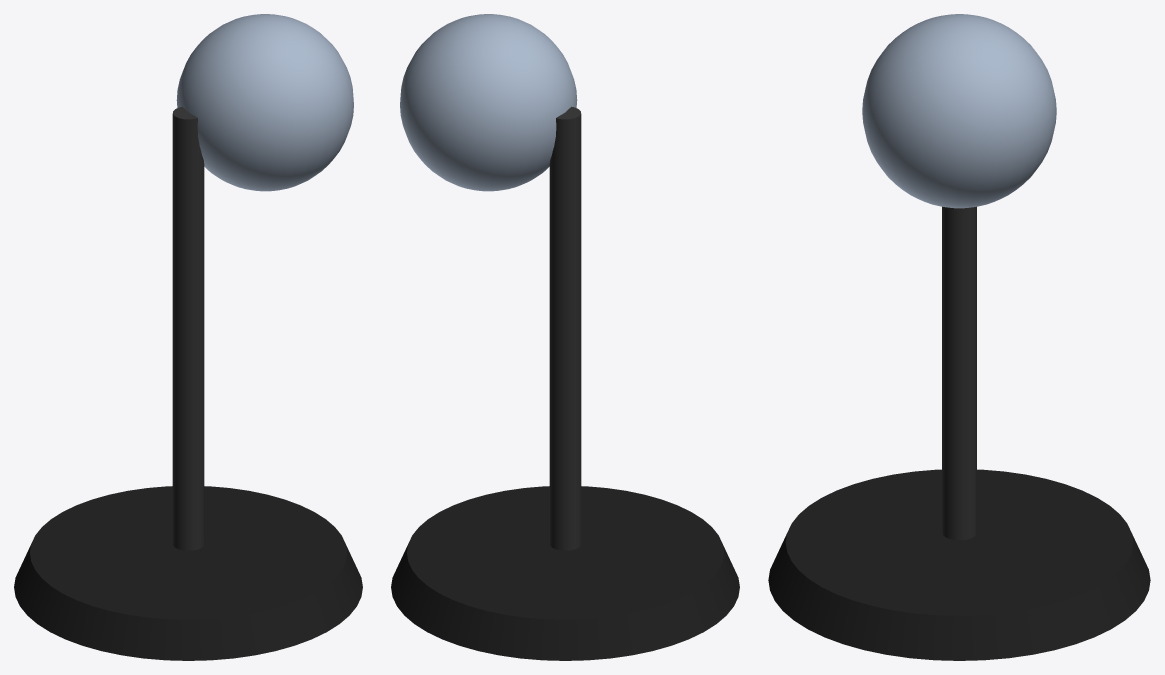
File: lamp.glb
The picture shows the model from 3 angles, left to right: view 1: azimuth 30°, elevation 25°; view 2: azimuth 150°, elevation 25°; view 3: azimuth 270°, elevation 25°; orthographic projection. The views are drawn at different scales.
Size of the model in its own units: 1.11 by 1.9 by 1.1.
